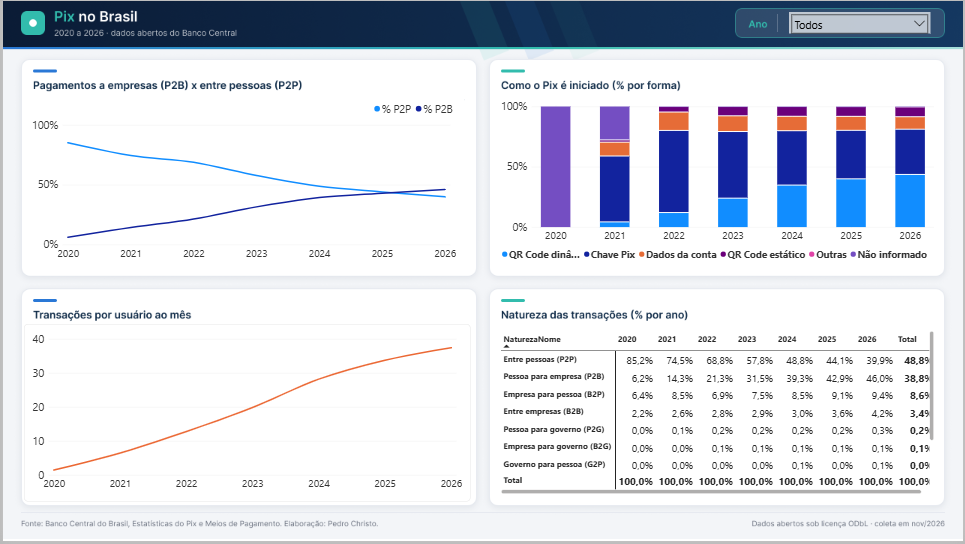

What the dashboard file says about the page in this screenshot:
{"tool":"powerbi","page":{"name":"Como o Pix é usado","canvas":[1920,1080],"ordinal":1},"visuals":[{"type":"lineChart","fields":{"Category":["dCalendario.Ano"],"Y":["_Medidas.% P2P","_Medidas.% P2B"]},"box":[41.7,182.5,880,357.5],"z":0},{"type":"hundredPercentStackedColumnChart","fields":{"Category":["dCalendario.Ano"],"Series":["dFormaIniciacao.Forma"],"Y":["_Medidas.Transações por forma"]},"box":[980,182.5,897.5,357.5],"z":1000},{"type":"lineChart","fields":{"Category":["dCalendario.Ano"],"Y":["_Medidas.Transações por usuário (mês)"]},"box":[41.7,646.7,893.3,355],"z":2000},{"type":"pivotTable","fields":{"Columns":["dCalendario.Ano"],"Rows":["dNatureza.NaturezaNome"],"Values":["_Medidas.% das transações"]},"box":[980,646,898,356],"z":3000},{"type":"slicer","fields":{"Values":["dCalendario.Ano"]},"box":[1572.5,22.5,282.5,42.5],"z":5000}]}

Visuals, with their boxes in screenshot pixels (x1, y1, x2, y2), scaled from the page's 1920x1080 canvas onto the 965x544 screenshot:
lineChart - dCalendario.Ano x _Medidas.% P2P: box(21, 92, 463, 272)
hundredPercentStackedColumnChart - dCalendario.Ano x dFormaIniciacao.Forma: box(493, 92, 944, 272)
lineChart - dCalendario.Ano x _Medidas.Transações por usuário (mês): box(21, 326, 470, 505)
pivotTable - dCalendario.Ano x dNatureza.NaturezaNome: box(493, 325, 944, 505)
slicer - dCalendario.Ano: box(790, 11, 932, 33)
